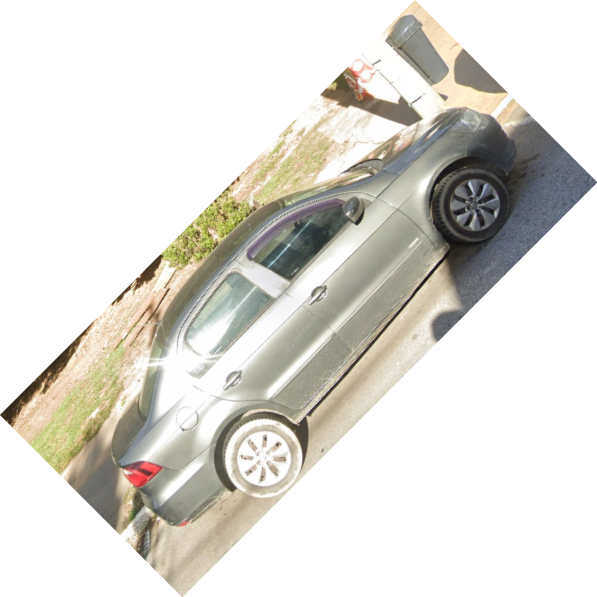car: (108, 106, 518, 530)
